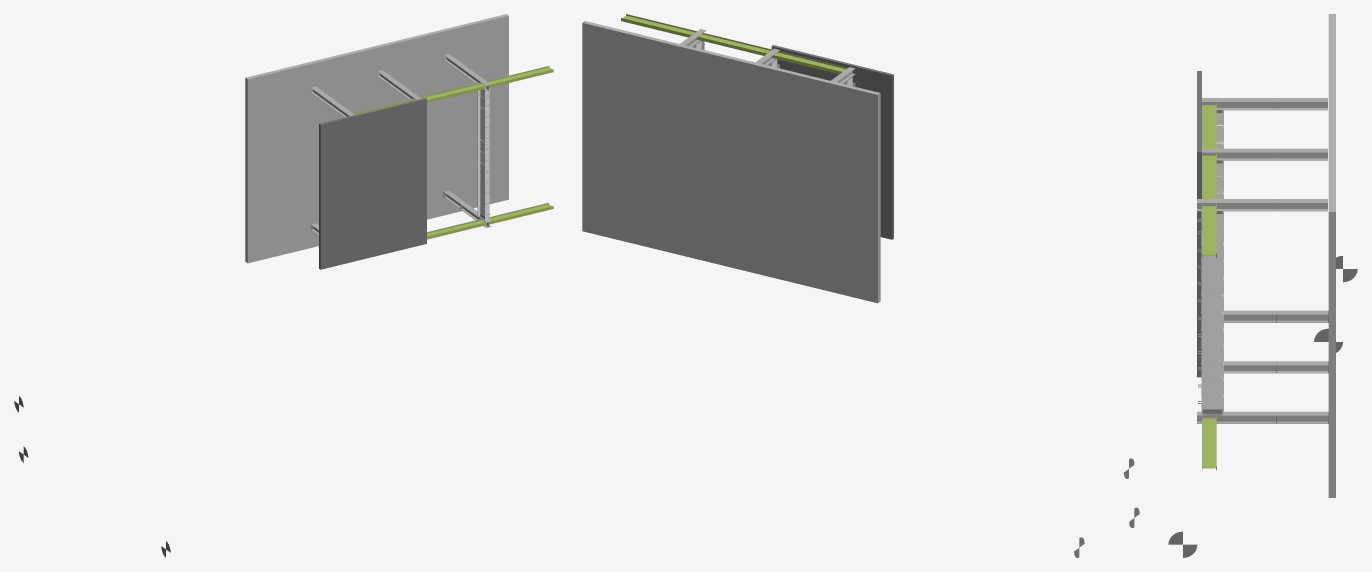
File: YZ_steel.obj
The picture shows the model from 3 angles, left to right: view 1: azimuth 30°, elevation 25°; view 2: azimuth 150°, elevation 25°; view 3: azimuth 270°, elevation 25°; orthographic projection. The views are drawn at different scales.
Visible parts, largest first — view 1: Concrete_Slab_-_6", Generic_-_12", WF_BM_MF_PV, HEA_200, 1%_Neigung; view 2: Concrete_Slab_-_6", Generic_-_12", WF_BM_MF_PV; view 3: HEA_200, 1%_Neigung, Concrete_Slab_-_6", WF_BM_MF_PV, Generic_-_12", Level_2.
Part boxes in pixels (x1,y1,x2,y2): Concrete_Slab_-_6": [245, 14, 508, 263]; Generic_-_12": [319, 97, 426, 269]; WF_BM_MF_PV: [353, 66, 553, 239]; HEA_200: [311, 54, 491, 235]; 1%_Neigung: [477, 89, 490, 221]; Concrete_Slab_-_6": [582, 21, 880, 303]; Generic_-_12": [771, 45, 893, 239]; WF_BM_MF_PV: [621, 14, 847, 74]; HEA_200: [1197, 98, 1327, 423]; 1%_Neigung: [1198, 110, 1223, 414]; Concrete_Slab_-_6": [1328, 14, 1335, 497]; WF_BM_MF_PV: [1202, 103, 1216, 470]; Generic_-_12": [1197, 71, 1201, 377]; Level_2: [1168, 531, 1197, 557].
Size of the model in its own units: 18.38 by 14.81 by 3.96.
